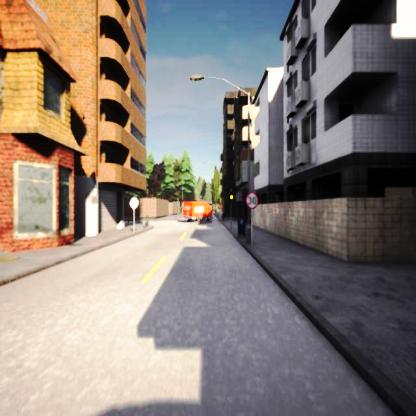vehicle: (182, 201, 212, 223)
